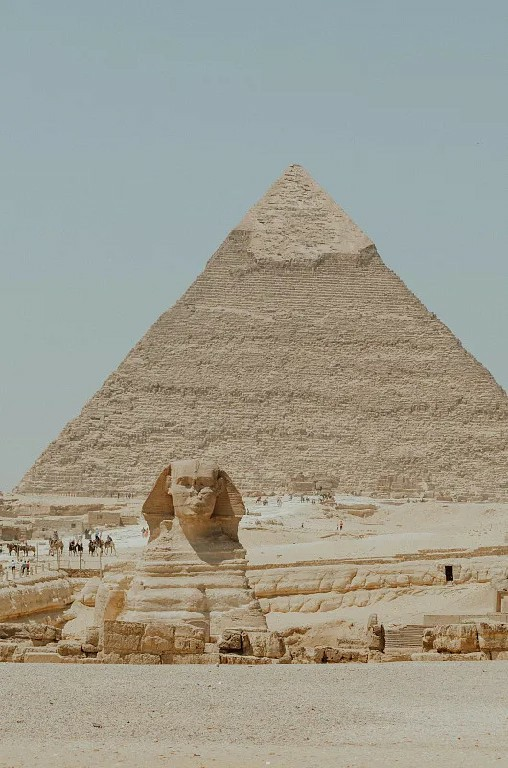Pyramid: (16, 163, 508, 504)
